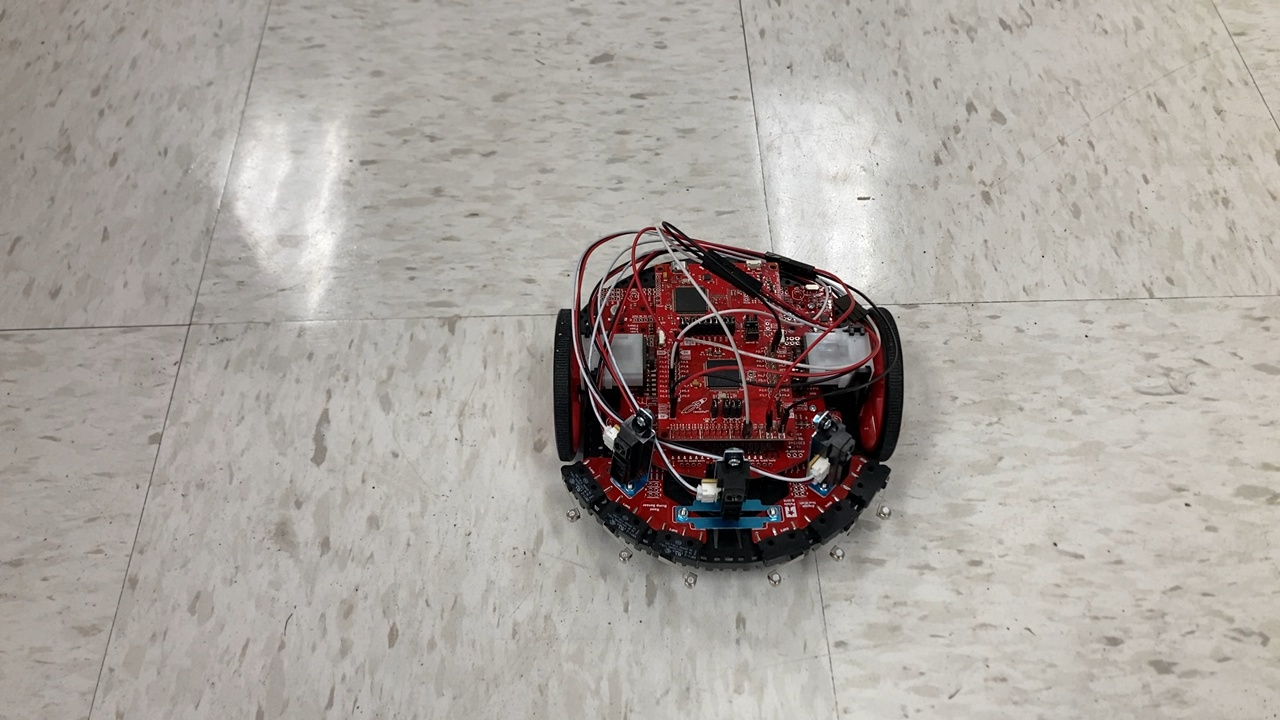robot: (538, 215, 918, 595)
